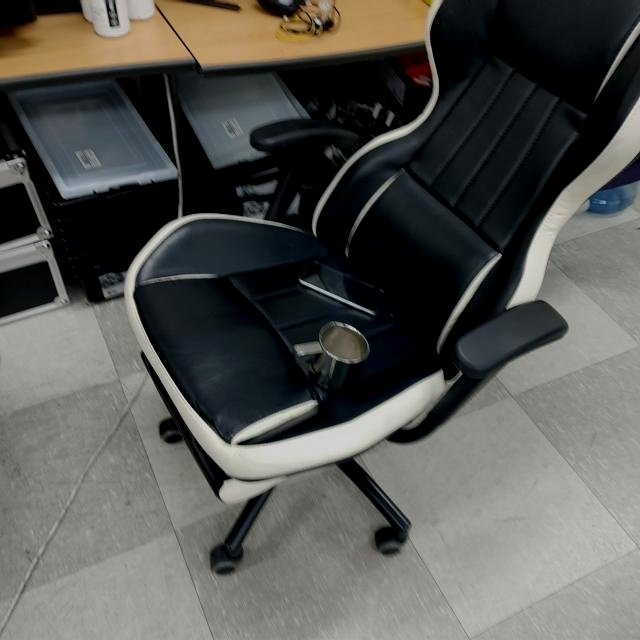cup: (292, 320, 372, 395)
phone: (299, 258, 385, 317)
